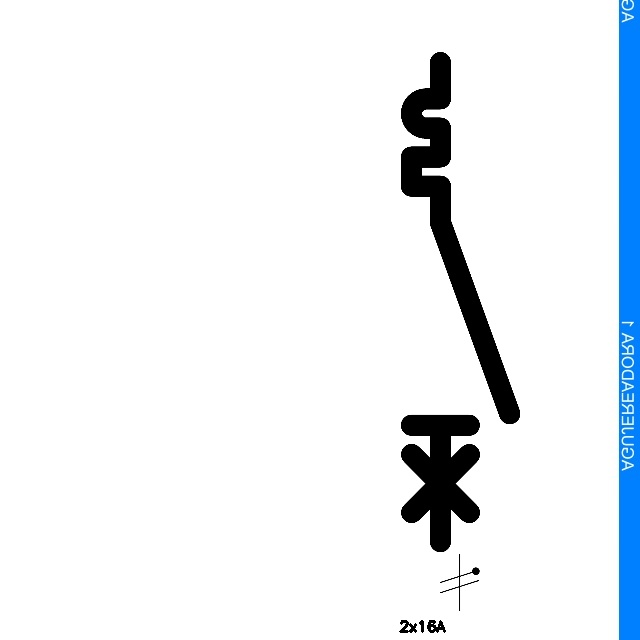interruptor_termomagnetico: (399, 50, 522, 554)
